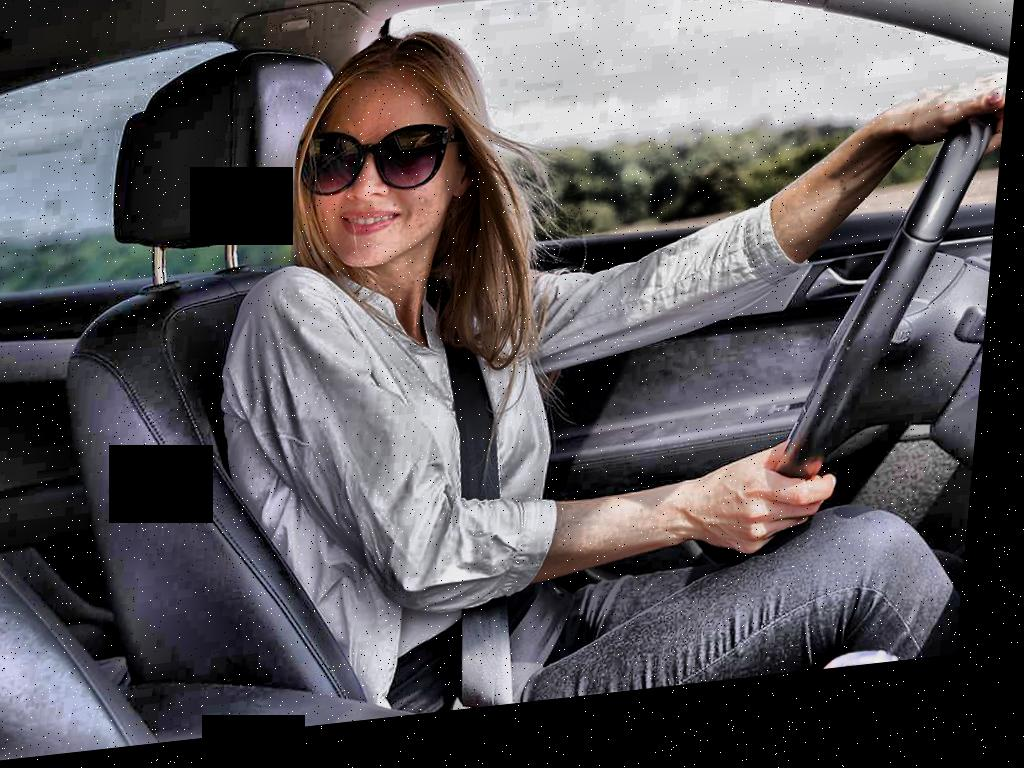seatbelt: (408, 253, 564, 728)
